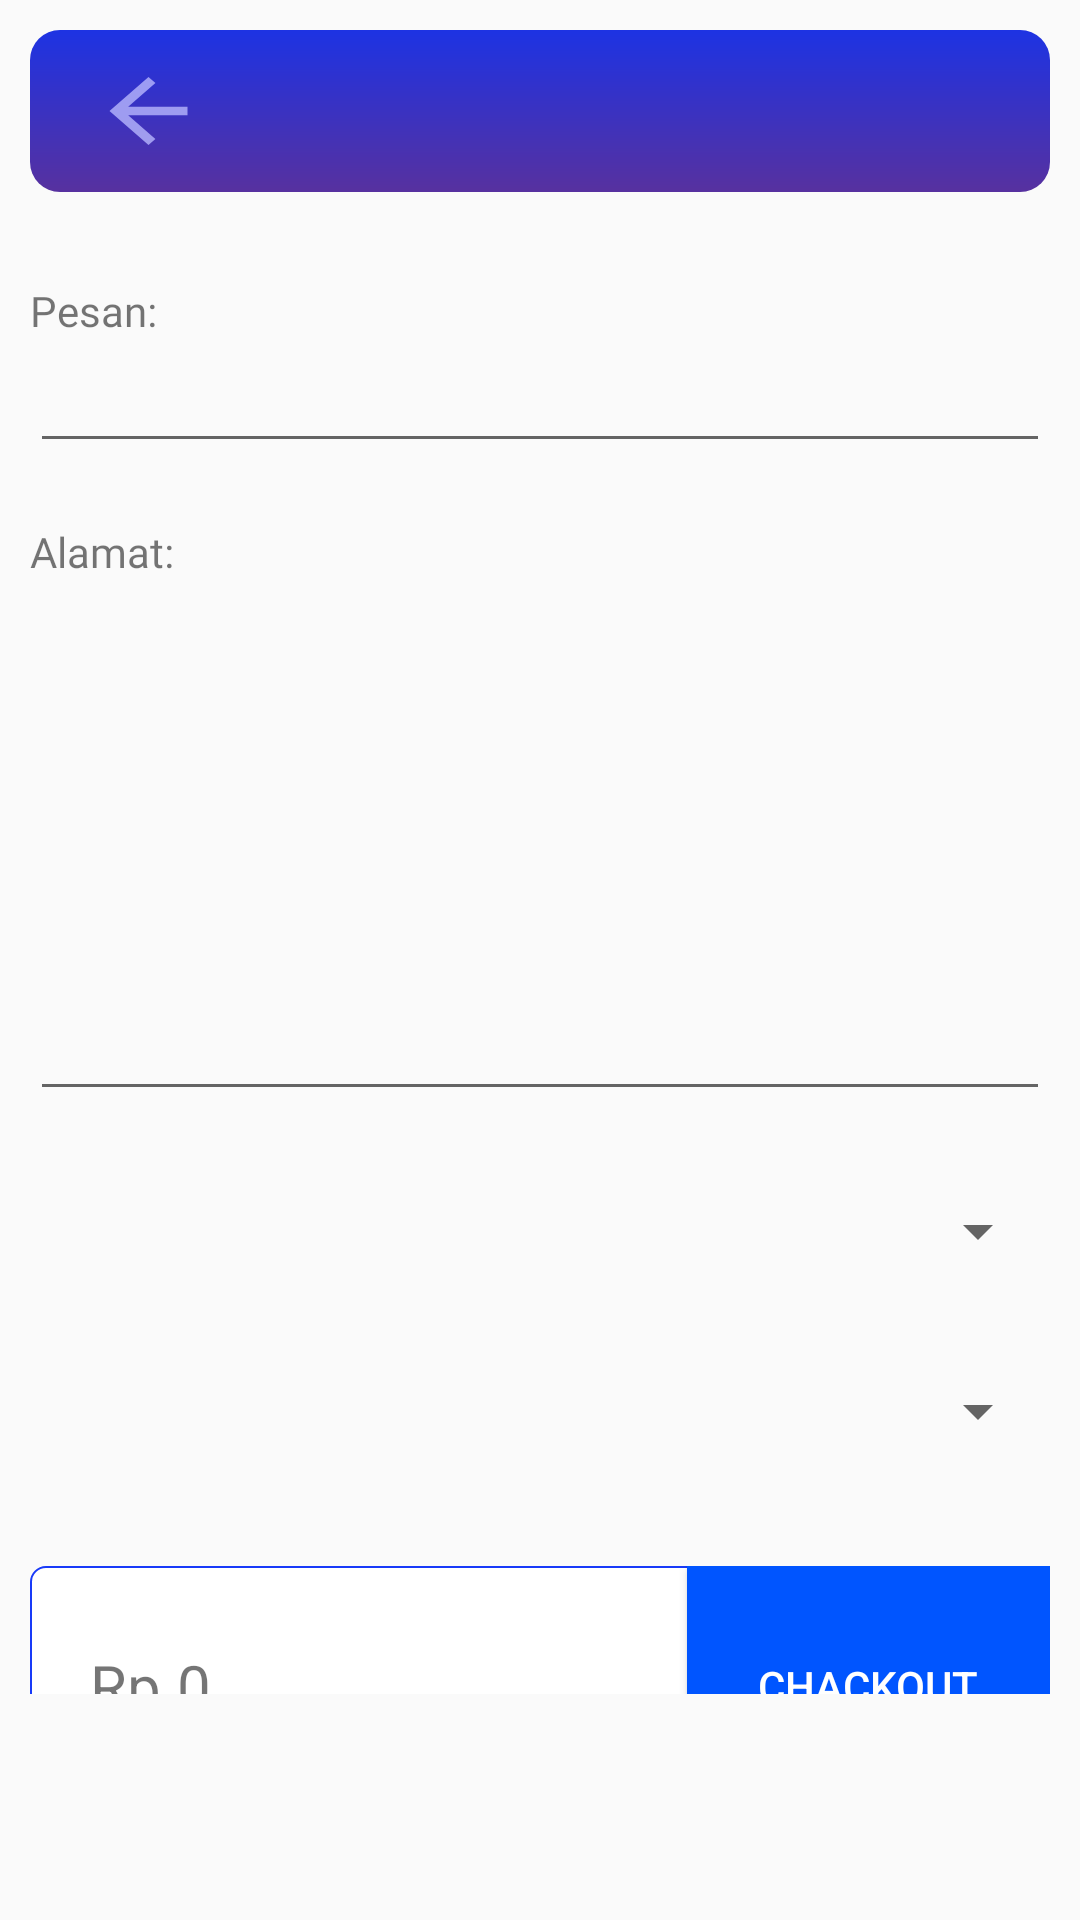

Screen size 1080×1920. Icon name, then its center in pixels as (x=x, y=y):
search back: (x=148, y=111)
